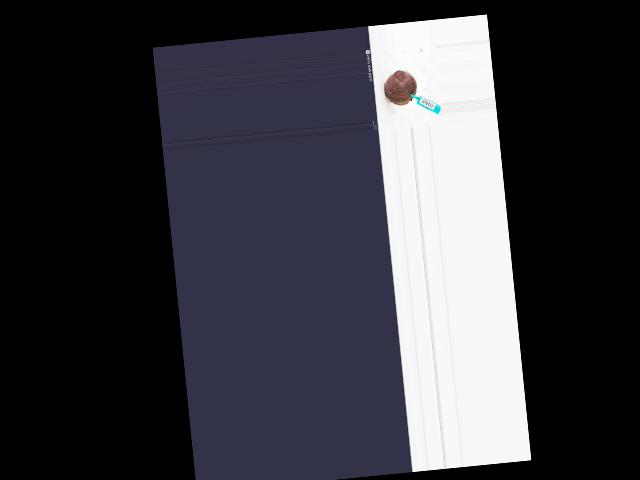beet: (382, 69, 418, 106)
